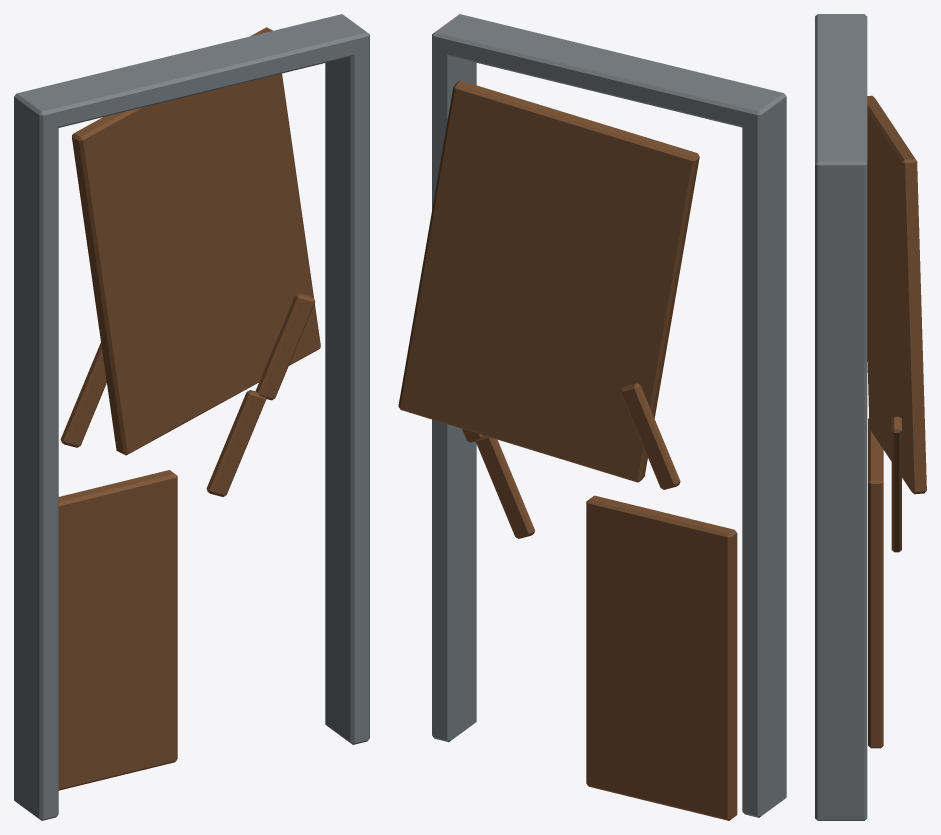
Rendered from BrokenOfficeDoor.fbx.
The picture shows the model from 3 angles, left to right: view 1: azimuth 30°, elevation 25°; view 2: azimuth 150°, elevation 25°; view 3: azimuth 270°, elevation 25°; orthographic projection. The views are drawn at different scales.
Parts seen in each view (by area): view 1: BrokenOfficeDoor; view 2: BrokenOfficeDoor; view 3: BrokenOfficeDoor.
Boxes of the visible parts, x1=… form: BrokenOfficeDoor: x1=14, y1=14, x2=369, y2=820; BrokenOfficeDoor: x1=398, y1=14, x2=786, y2=820; BrokenOfficeDoor: x1=815, y1=14, x2=926, y2=820.
Bounding box in the file's own units: 103 × 210 × 32.16.
Materials: 1 (1 with a texture image).
